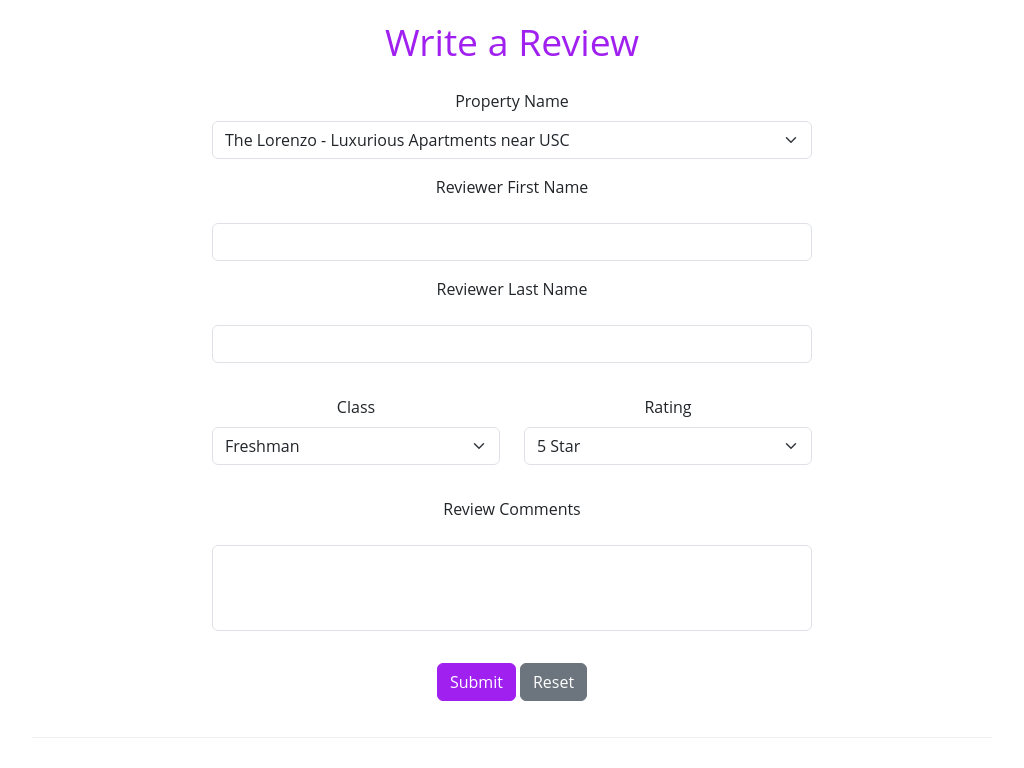
Test: pressing the reset button resets the form to its initial state
The width and height of the screenshot is (1024, 768).
Select "The Orion - Single-Unit Housing with a View of Downtown" in the dropdown with test id "property-name": (512, 140) [212, 121, 812, 159]
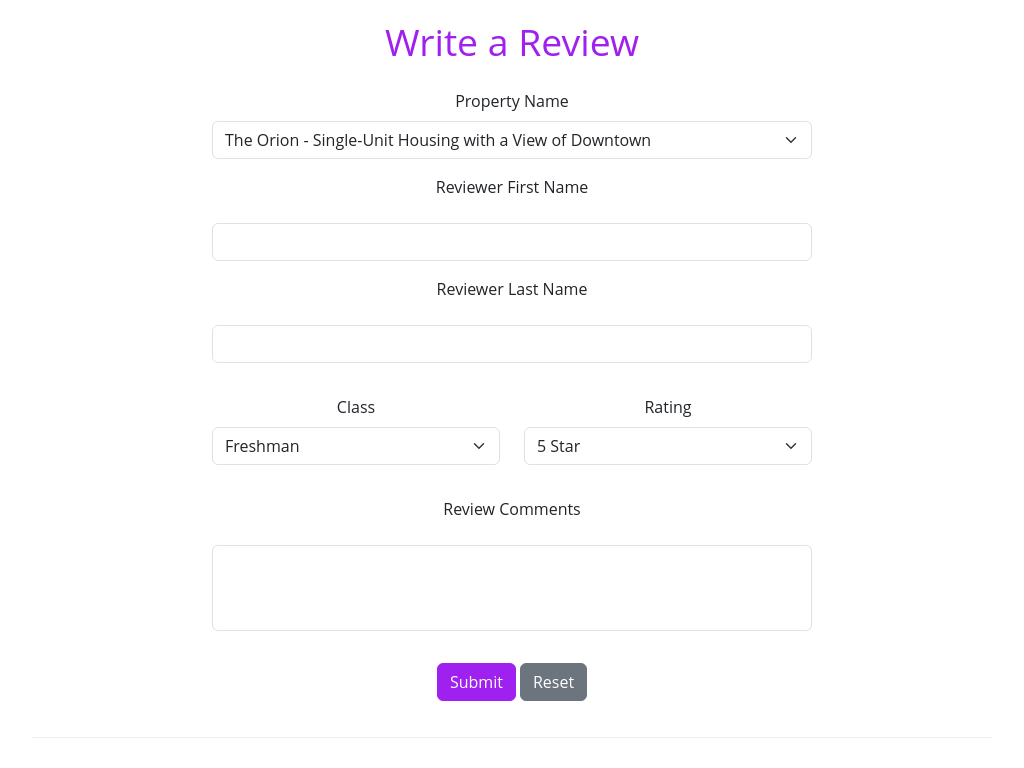
In the field with test id "reviewer-first-name": (512, 242) [212, 223, 812, 261], type "Abhi"
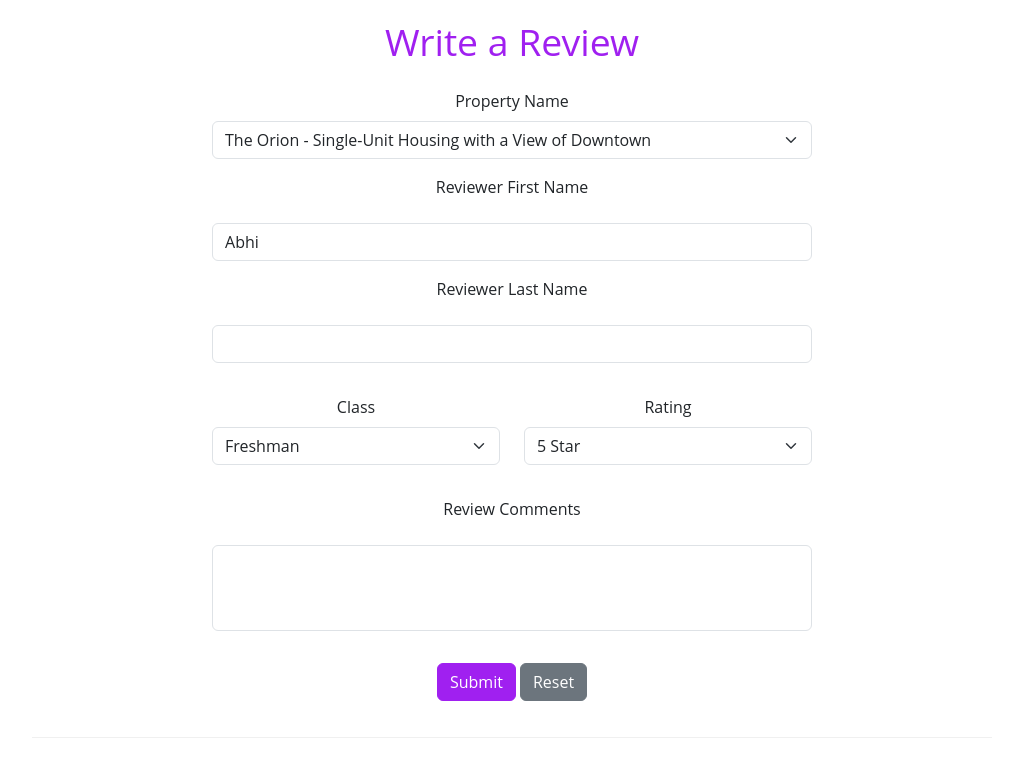
In the field with test id "reviewer-last-name": (512, 344) [212, 325, 812, 363], type "Jay"
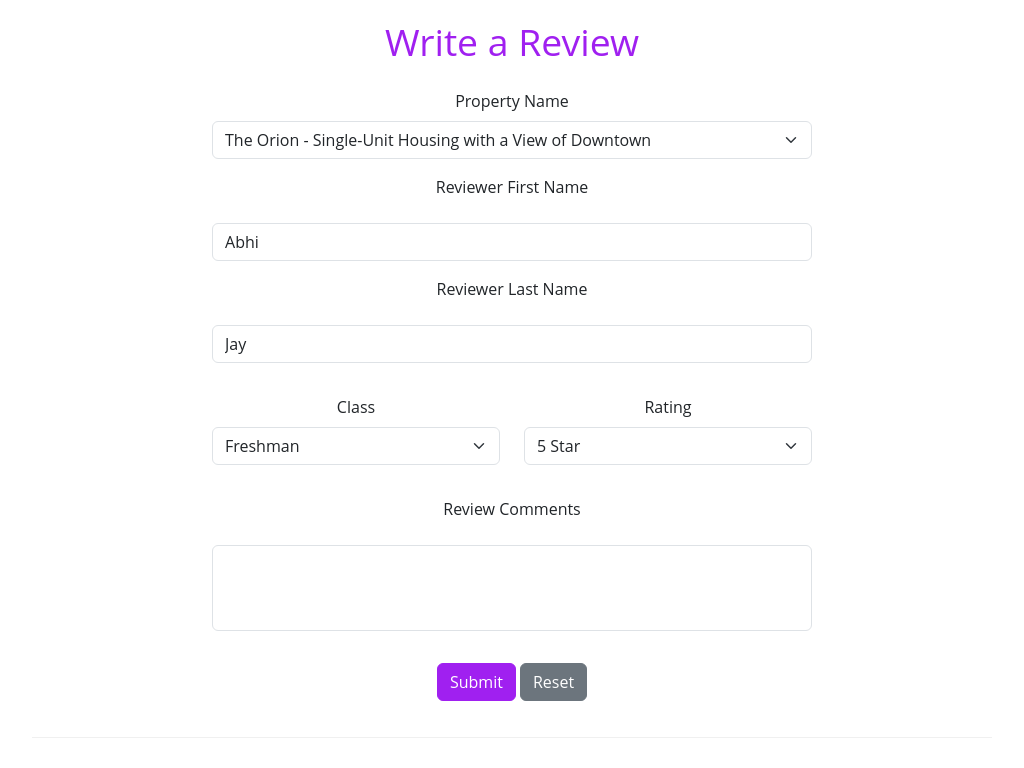
Select "sophomore" in the dropdown with test id "Class": (356, 446) [212, 427, 500, 465]
Select "5 Star" in the dropdown with test id "Rating": (668, 446) [524, 427, 812, 465]
In the text box with test id "Review Comments": (512, 588) [212, 545, 812, 631], type "Amazing service and well-kept property!"
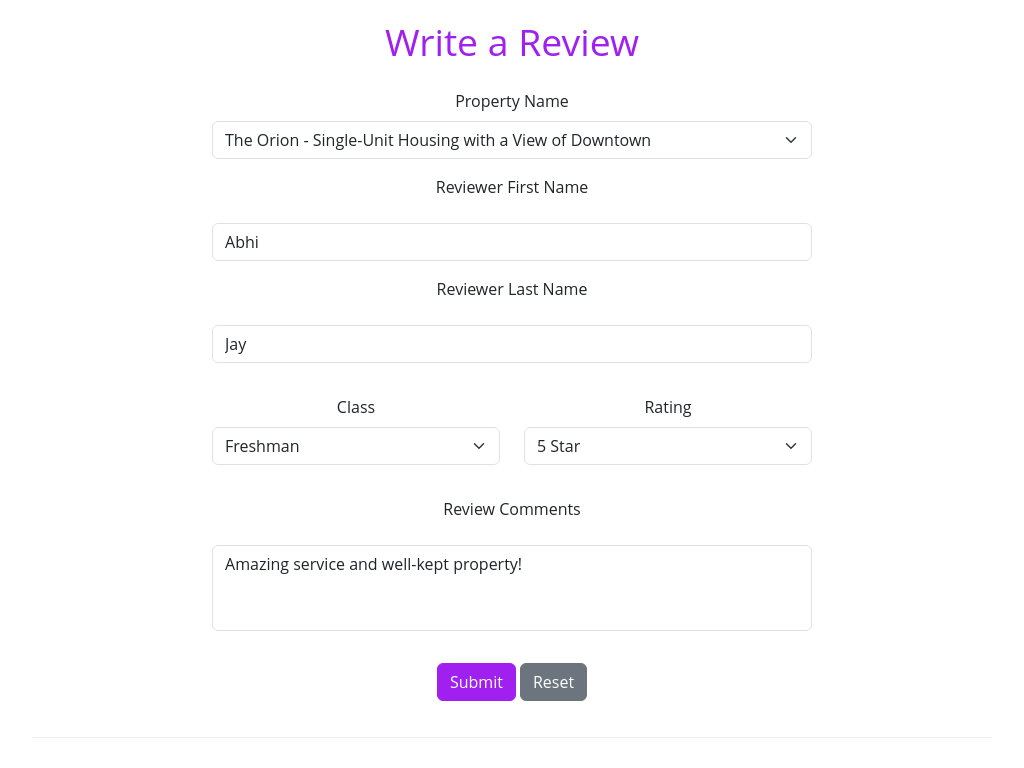
Click the button with test id "reset-button": (553, 682) [520, 663, 587, 701]
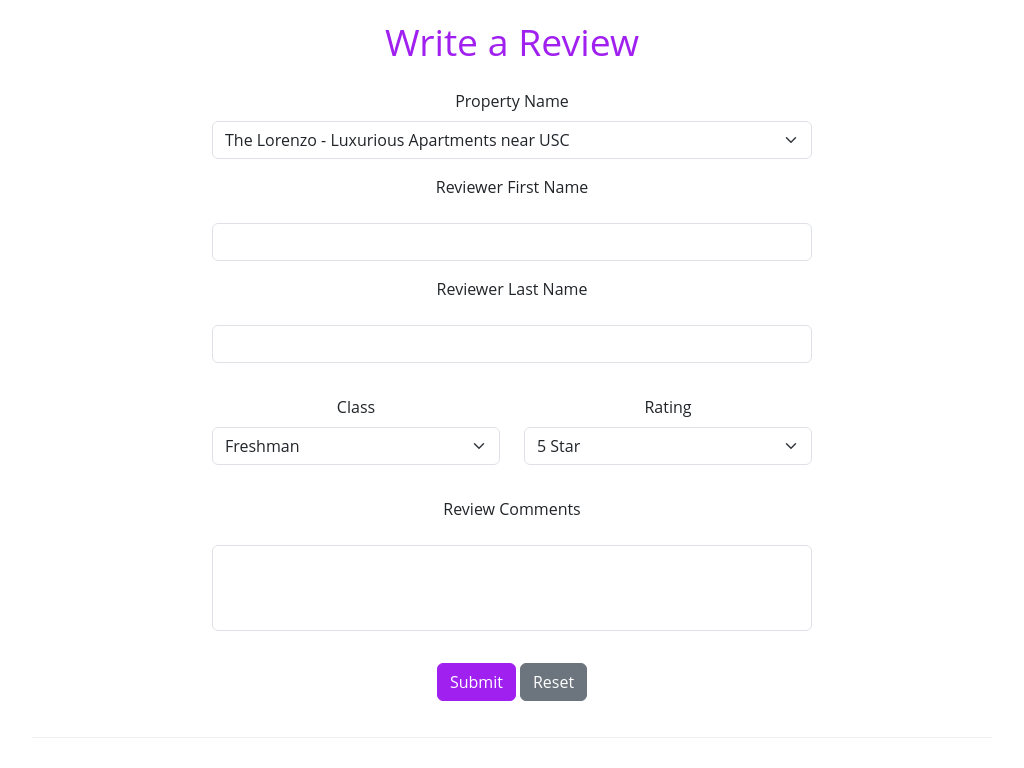
expect the field with test id "reviewer-first-name" is empty: met, box [212, 223, 812, 261]
expect the field with test id "reviewer-last-name" is empty: met, box [212, 325, 812, 363]
expect the text box with test id "Review Comments" is empty: met, box [212, 545, 812, 631]
